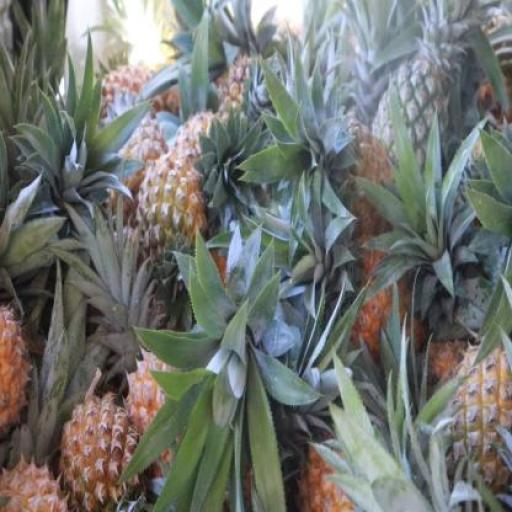------------------------------: (139, 150, 206, 283)
Pineapple - v8 v1: (60, 394, 137, 512)
